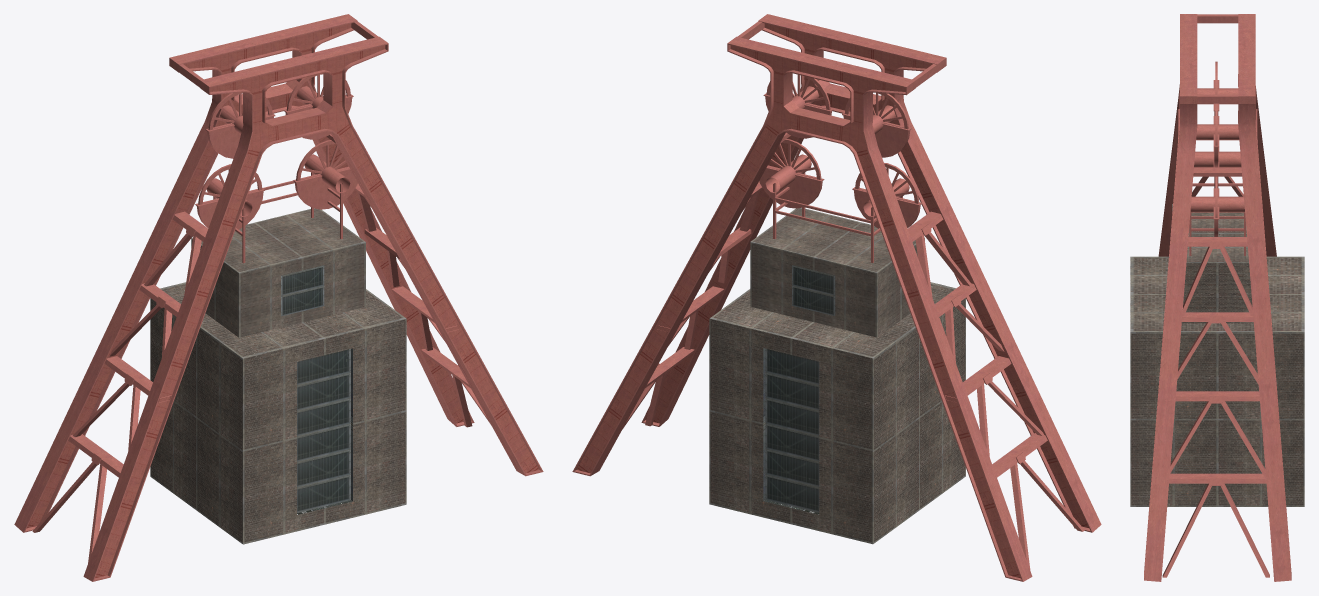
File: shaft_tower01_lod.dae
The picture shows the model from 3 angles, left to right: view 1: azimuth 30°, elevation 25°; view 2: azimuth 150°, elevation 25°; view 3: azimuth 270°, elevation 25°; orthographic projection. The views are drawn at different scales.
Parts seen in each view (by area): view 1: Mesh; view 2: Mesh; view 3: Mesh.
Part boxes in pixels (bbox=[...]): Mesh: bbox=[14, 14, 543, 581]; Mesh: bbox=[572, 14, 1101, 581]; Mesh: bbox=[1130, 14, 1304, 581].
Bounding box in the file's own units: 43.8 × 41.7 × 15.59.
4 materials, 4 textured.
